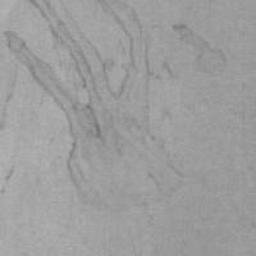Water spot: (5, 0, 200, 218), (173, 24, 227, 77)
